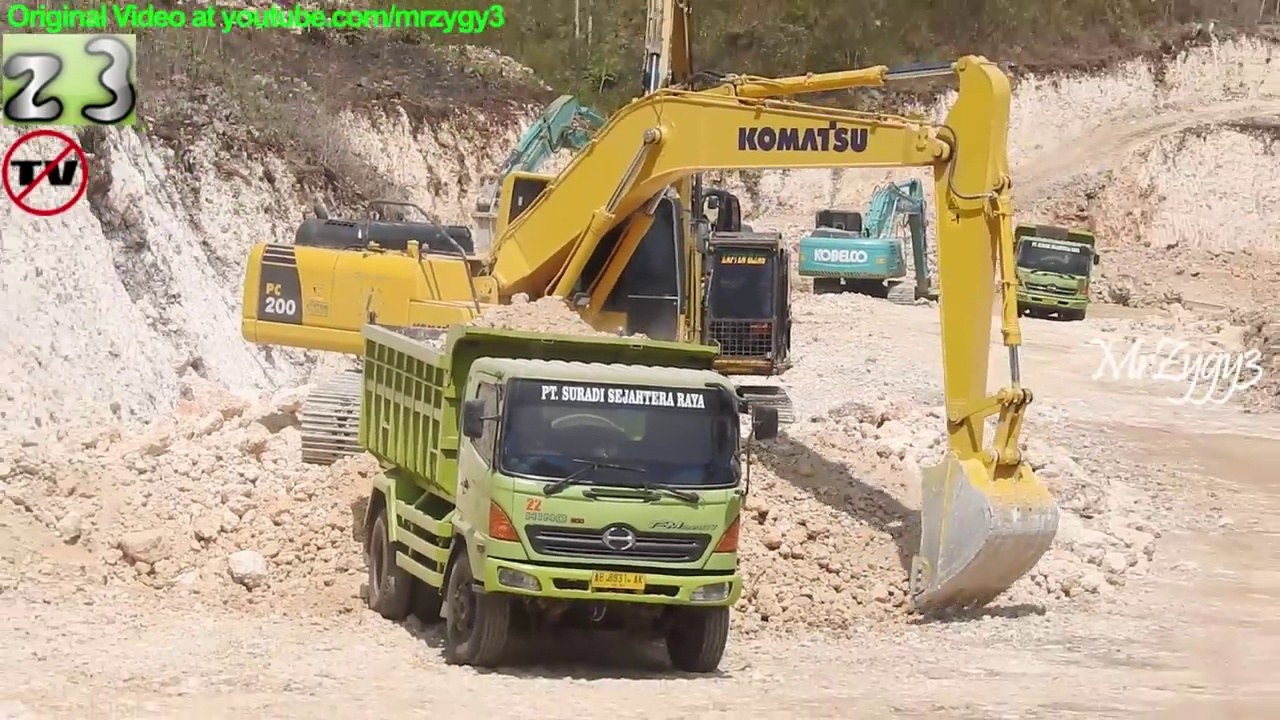excavator: (237, 58, 1060, 623), (423, 1, 803, 455), (798, 176, 938, 314)
truck: (354, 313, 784, 681), (1007, 220, 1099, 328)
